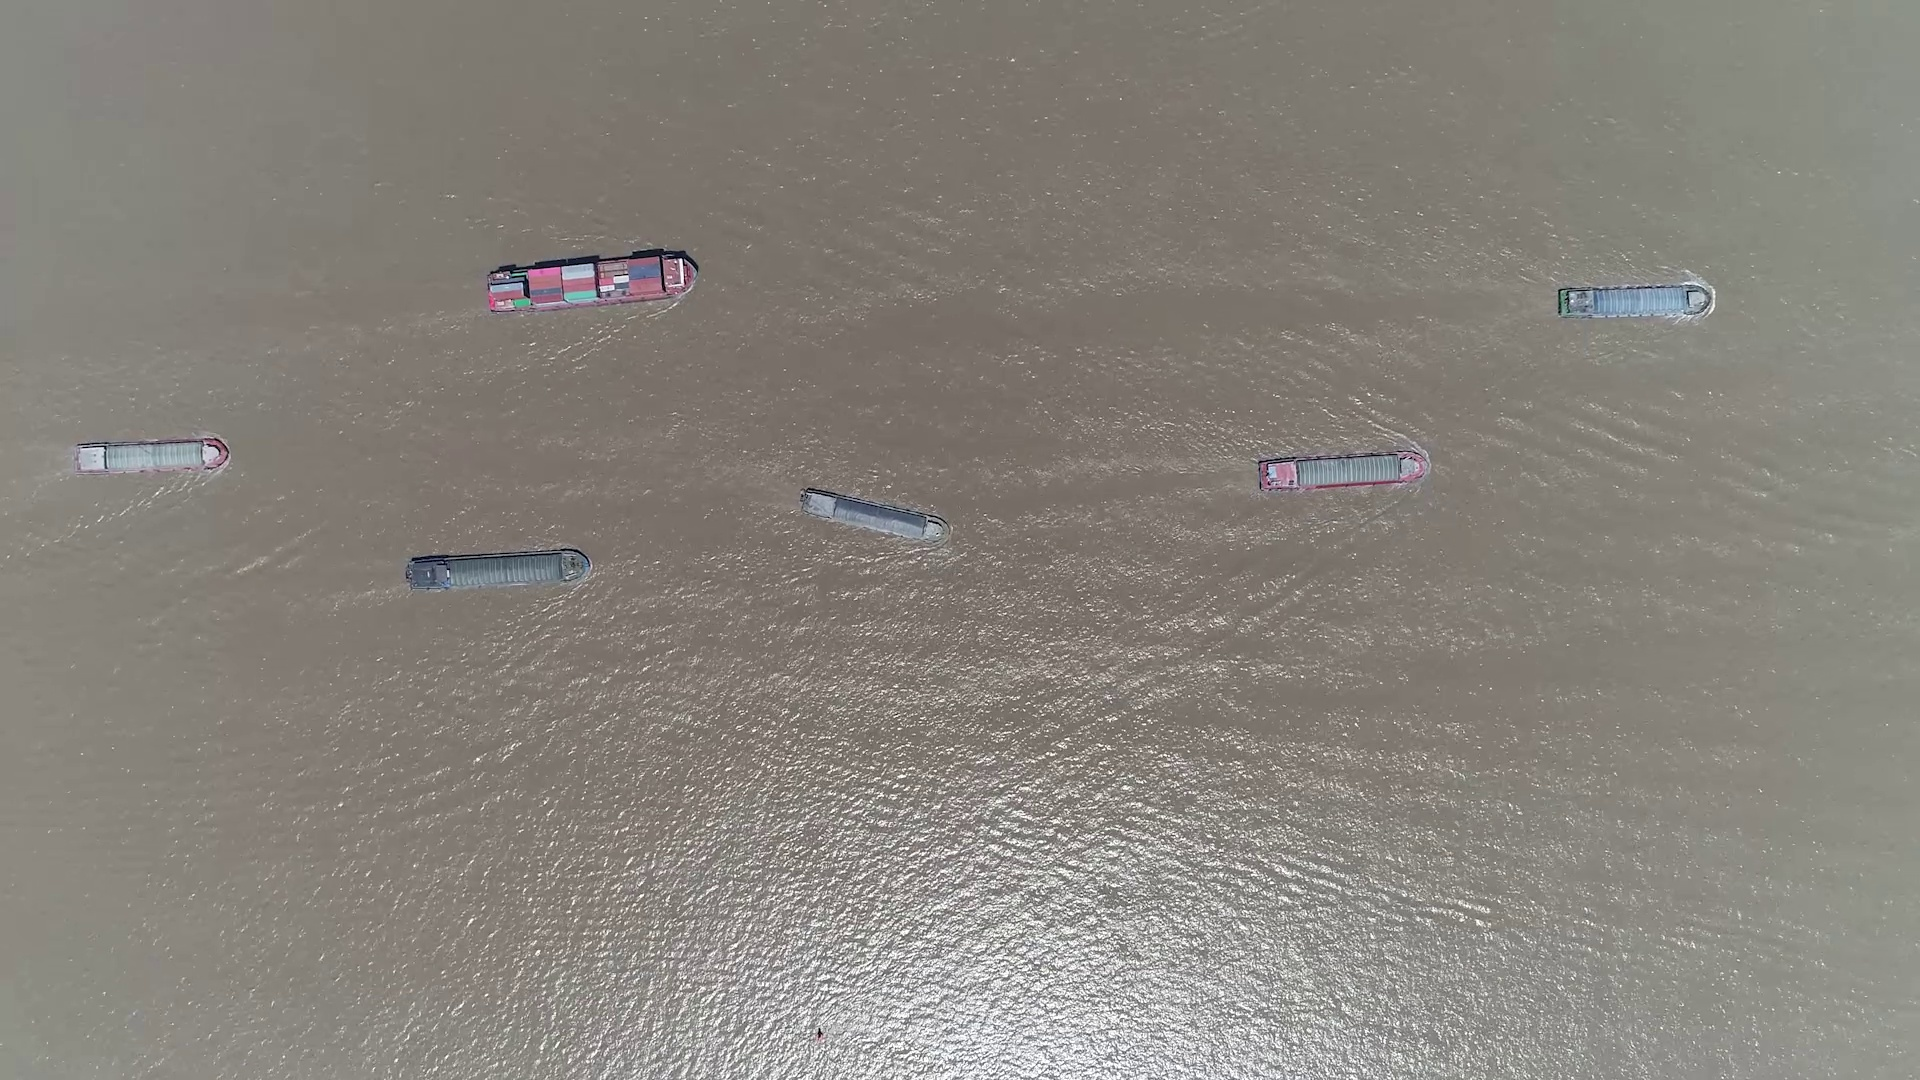ship: (487, 252, 699, 314), (796, 489, 945, 545), (406, 549, 592, 592), (1258, 448, 1429, 492), (76, 438, 228, 472), (1557, 285, 1710, 318)
